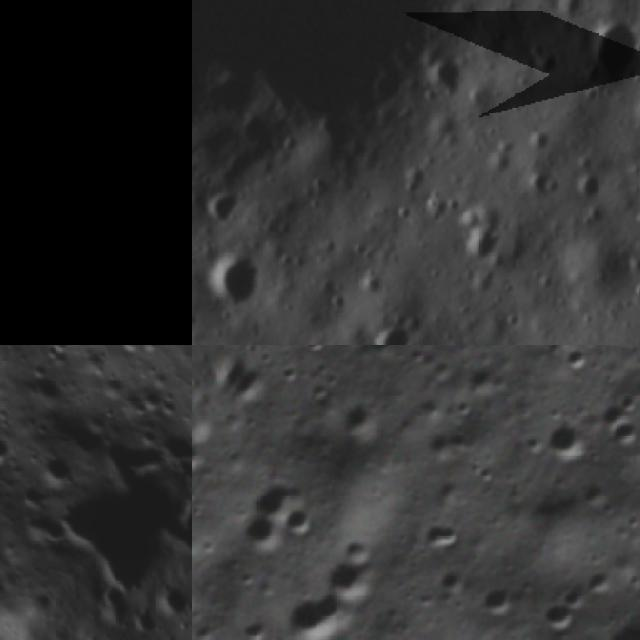crater: (192, 0, 521, 183), (34, 427, 185, 571), (554, 219, 640, 313), (196, 242, 276, 322), (572, 3, 640, 94), (330, 383, 404, 457), (318, 539, 390, 613), (228, 497, 297, 565), (283, 579, 358, 640), (451, 206, 517, 273), (409, 504, 470, 568), (540, 415, 598, 473), (230, 355, 286, 414), (468, 572, 522, 626), (422, 49, 471, 105), (531, 594, 586, 640), (202, 184, 249, 232), (32, 443, 80, 490), (542, 0, 603, 34), (480, 141, 525, 187), (521, 162, 565, 208), (569, 165, 613, 211), (279, 500, 323, 546), (521, 44, 565, 87), (354, 260, 394, 306), (360, 318, 423, 345), (8, 476, 48, 516), (0, 422, 26, 482), (609, 408, 640, 456), (599, 604, 640, 640), (558, 345, 602, 378), (232, 609, 278, 640), (620, 85, 640, 139), (392, 198, 416, 225)
